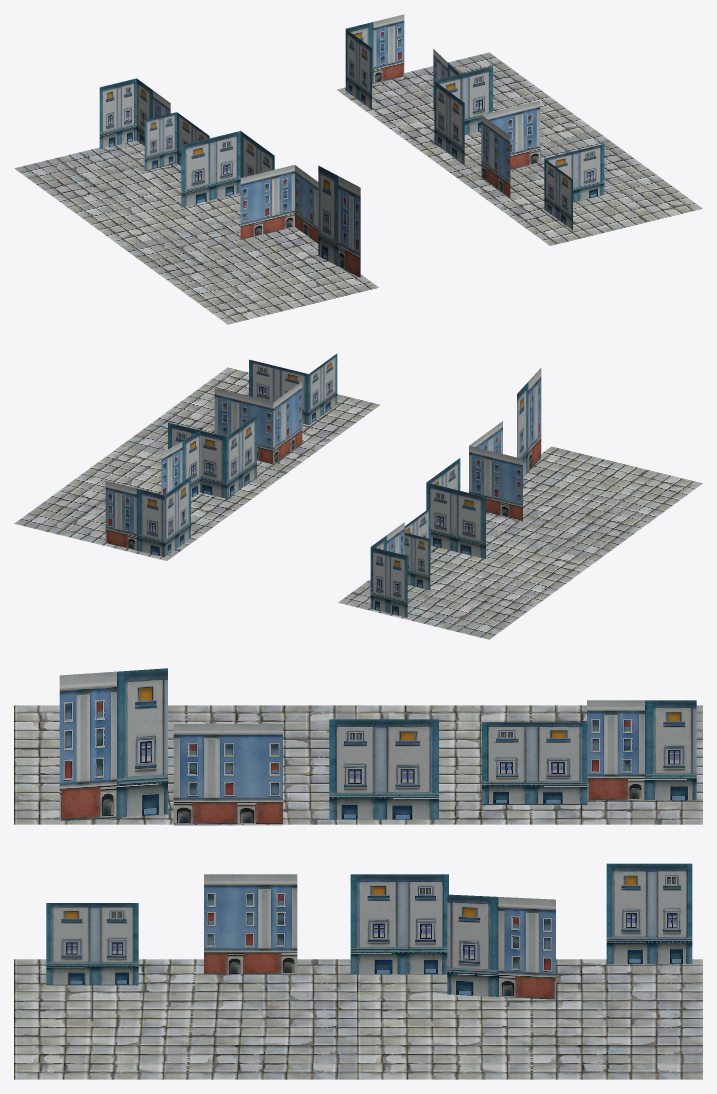
File: eu_city_far.fbx
3 renders of one model, top to bottom at view 1: azimuth 30°, elevation 25°; view 2: azimuth 150°, elevation 25°; view 3: azimuth 270°, elevation 25°, orthographic. The views are drawn at different scales.
Visible parts, largest first — view 1: eu_city_far; view 2: eu_city_far; view 3: eu_city_far.
Part boxes in pixels (x1=…): eu_city_far: x1=14, y1=14, x2=702, y2=324; eu_city_far: x1=14, y1=353, x2=702, y2=639; eu_city_far: x1=14, y1=668, x2=702, y2=1079.
Bounding box in the file's own units: 12856 × 2358 × 10000.
